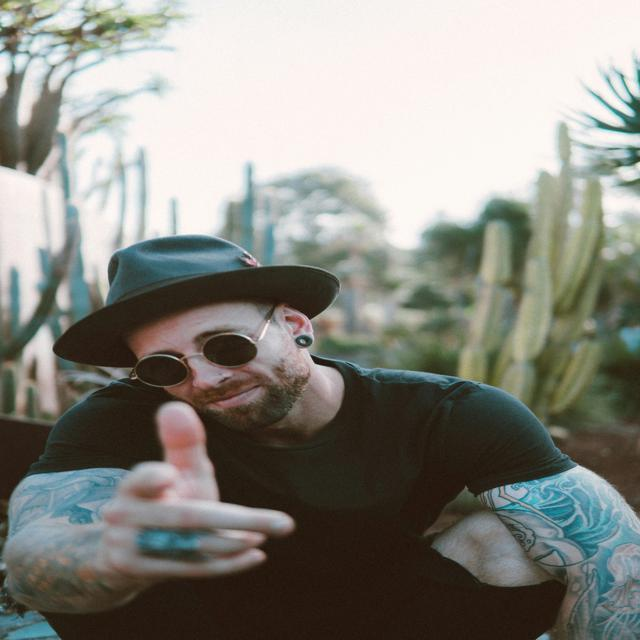2_gafas: (128, 301, 278, 388)
